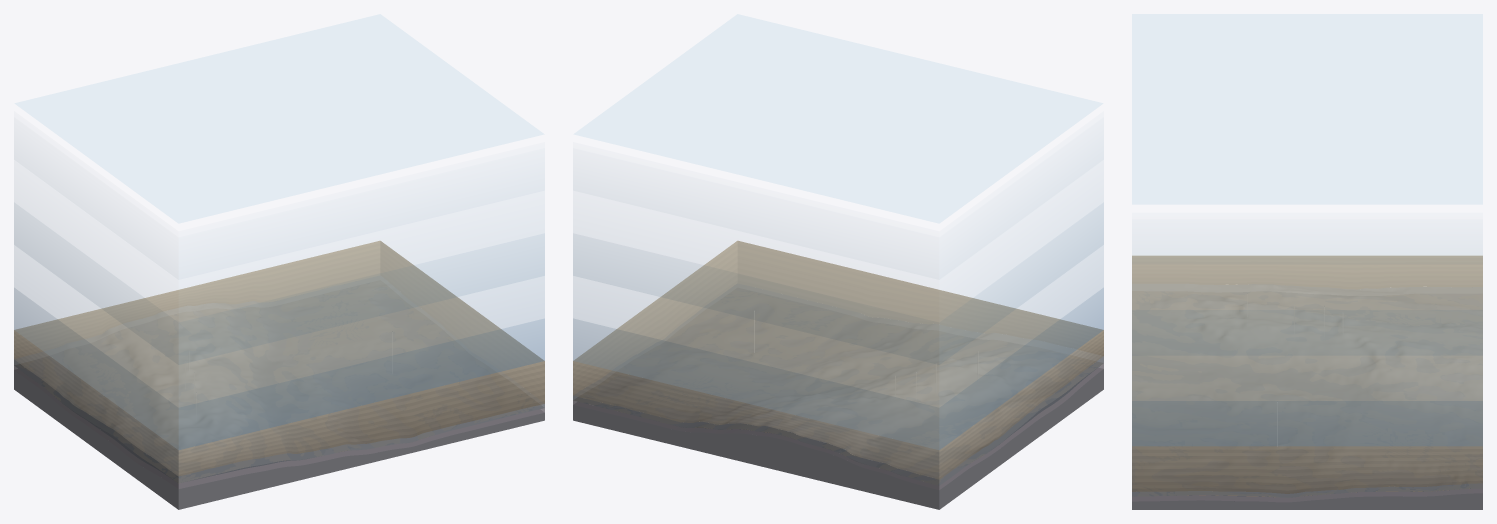
Rendered from Scale_seafloor_v6.glb.
3 renders of one model, left to right at view 1: azimuth 30°, elevation 25°; view 2: azimuth 150°, elevation 25°; view 3: azimuth 270°, elevation 25°, orthographic. The views are drawn at different scales.
Parts seen in each view (by area): view 1: sediment_volume, basement_top, water_column, sea_surface, 5_Undifferentiated_basalt, 1_Upper_pillow_basalt, 4_Lower_pillow_basalt; view 2: sediment_volume, water_column, sea_surface, basement_top, 5_Undifferentiated_basalt, 1_Upper_pillow_basalt, 4_Lower_pillow_basalt; view 3: sediment_volume, basement_top, sea_surface, water_column, 5_Undifferentiated_basalt, 4_Lower_pillow_basalt, 1_Upper_pillow_basalt.
Part boxes in pixels (x1,y1,x2,y2): sediment_volume: (14,240,544,476); basement_top: (14,275,544,476); water_column: (14,203,544,449); sea_surface: (15,14,542,222); 5_Undifferentiated_basalt: (14,370,544,509); 1_Upper_pillow_basalt: (14,359,544,483); 4_Lower_pillow_basalt: (14,365,544,489); sediment_volume: (573,240,1103,479); water_column: (573,203,1103,449); sea_surface: (575,14,1102,222); basement_top: (574,283,1102,479); 5_Undifferentiated_basalt: (573,369,1103,509); 1_Upper_pillow_basalt: (573,356,1103,485); 4_Lower_pillow_basalt: (573,363,1103,490); sediment_volume: (1132,255,1482,493); basement_top: (1132,284,1482,493); sea_surface: (1132,14,1482,203); water_column: (1132,310,1482,445); 5_Undifferentiated_basalt: (1132,493,1482,509); 4_Lower_pillow_basalt: (1132,486,1482,502); 1_Upper_pillow_basalt: (1132,483,1482,497).
Size of the model in its own units: 4500 by 3360 by 3500.
